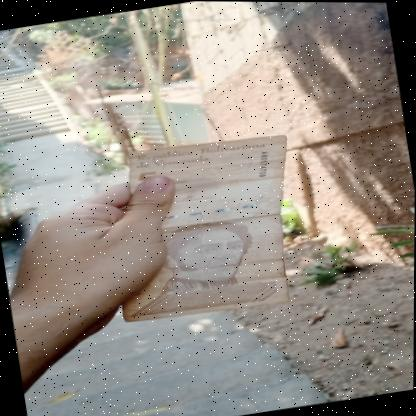vef_front: (97, 125, 313, 328)
